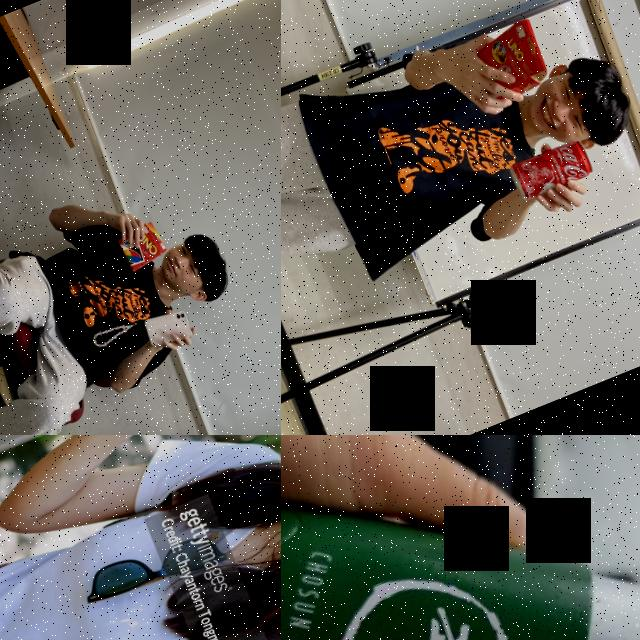can: (281, 435, 640, 640), (504, 135, 596, 206)
